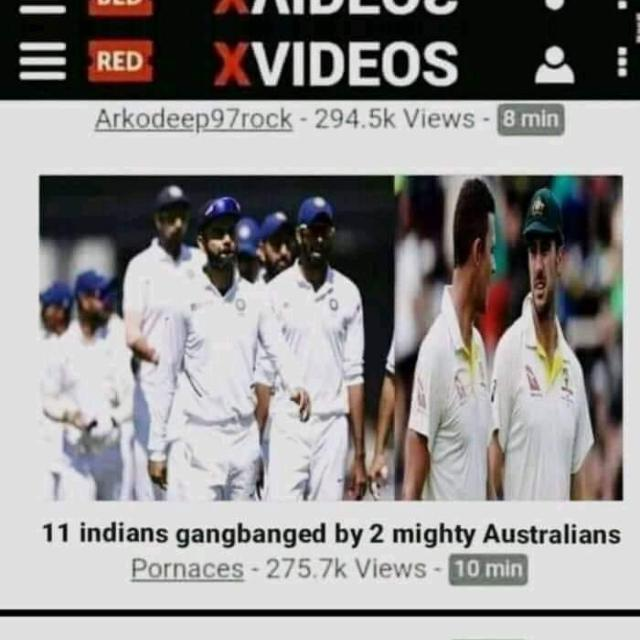person: (411, 183, 509, 522), (506, 180, 606, 512), (174, 185, 270, 473), (276, 198, 360, 496)
